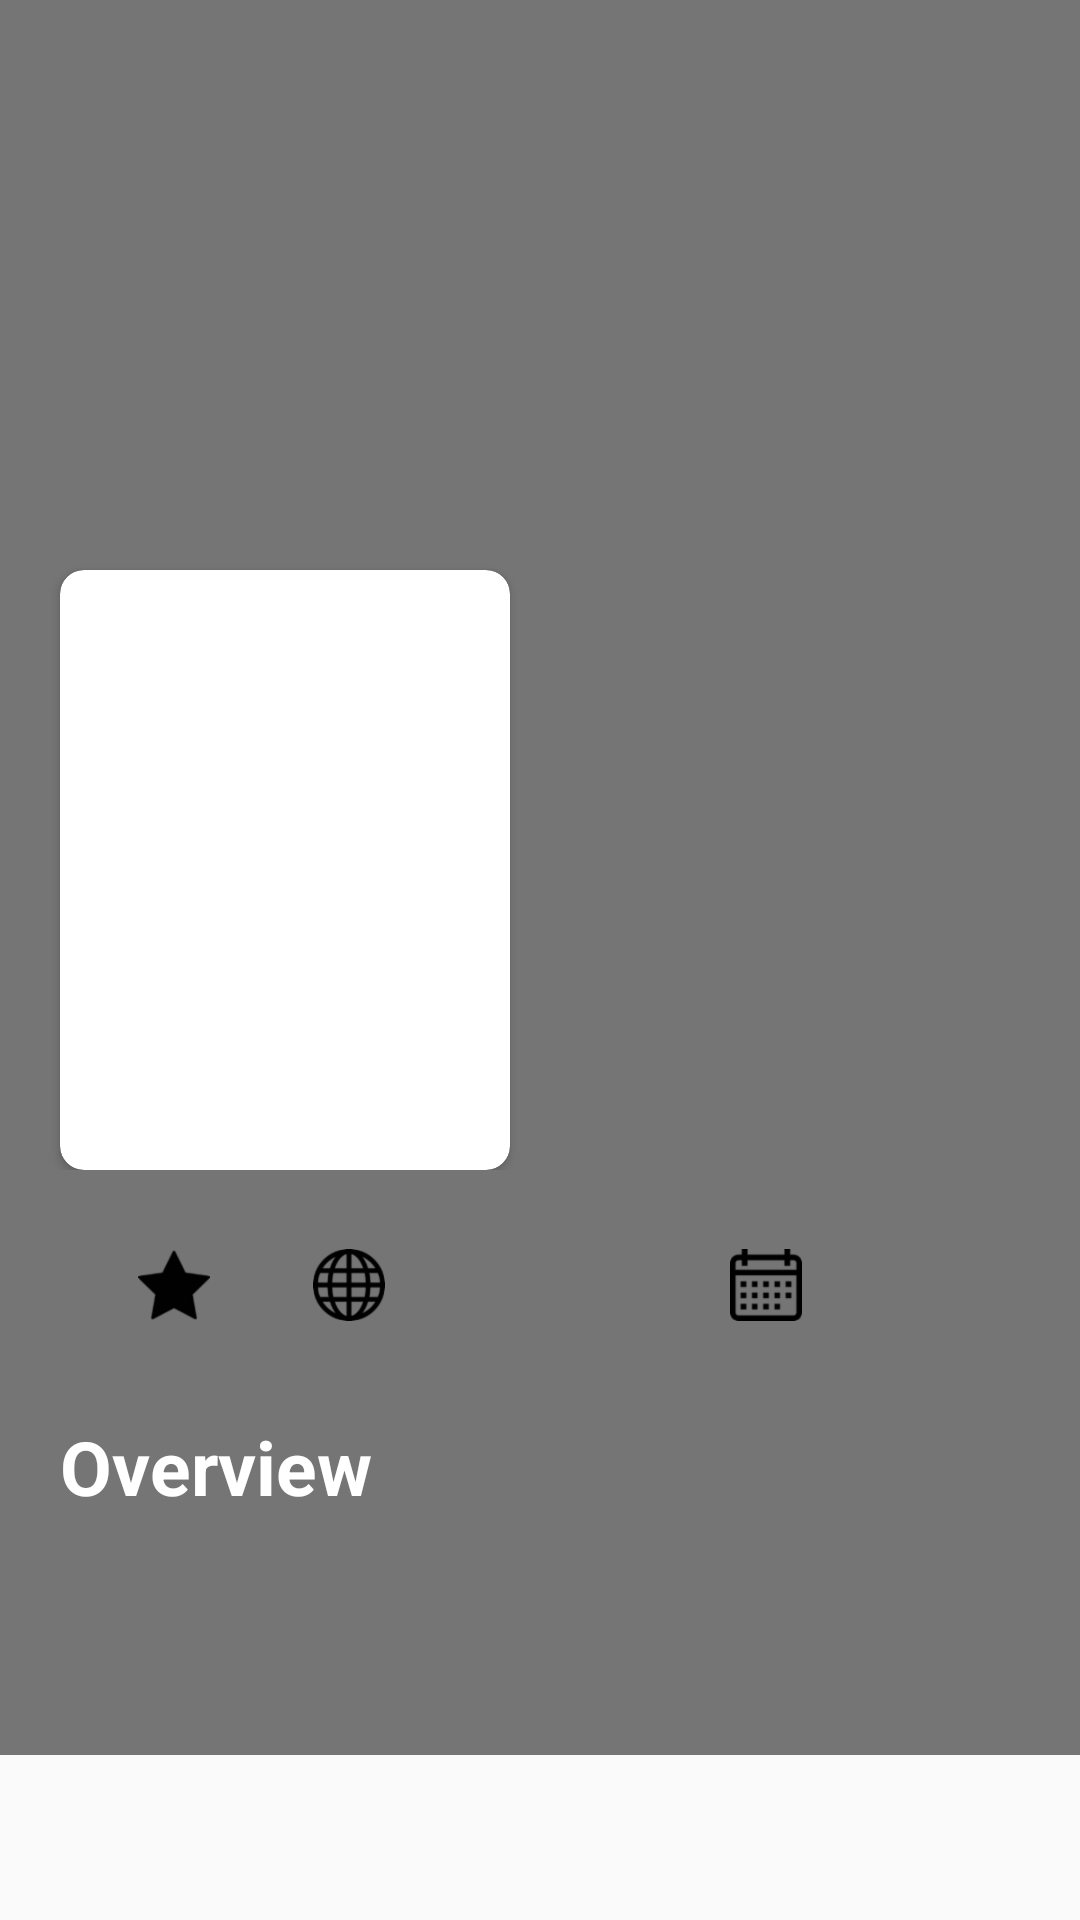

Where to tap for icons on this 1080 x 1920 app screen, as [x,y]:
calendar: [766,1285]
grid world: [349,1285]
star: [174,1285]
